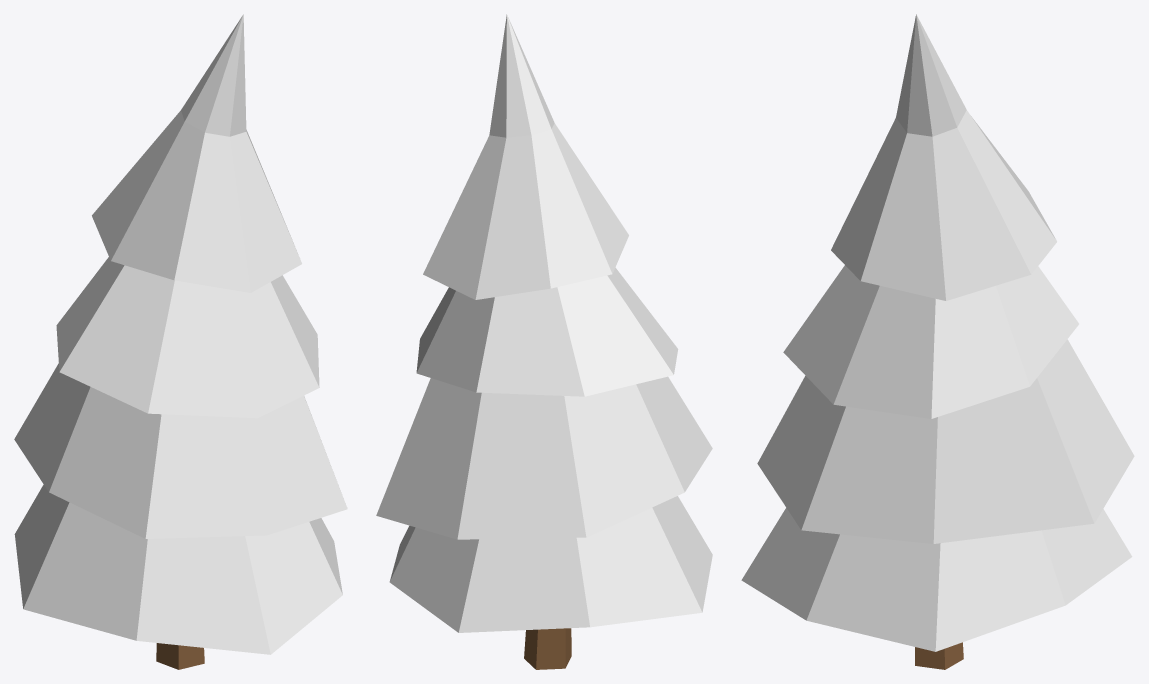
Rendered from Fir_Tree_OneSided_m_Snow_08.fbx.
The picture shows the model from 3 angles, left to right: view 1: azimuth 30°, elevation 25°; view 2: azimuth 150°, elevation 25°; view 3: azimuth 270°, elevation 25°; orthographic projection. The views are drawn at different scales.
Parts seen in each view (by area): view 1: Fir_Tree_OneSided_m_Snow_08; view 2: Fir_Tree_OneSided_m_Snow_08; view 3: Fir_Tree_OneSided_m_Snow_08.
Boxes of the visible parts, <box> form: Fir_Tree_OneSided_m_Snow_08: <box>14,14,347,669</box>; Fir_Tree_OneSided_m_Snow_08: <box>376,14,712,669</box>; Fir_Tree_OneSided_m_Snow_08: <box>741,14,1134,669</box>.
Bounding box in the file's own units: 373 × 735 × 390.
